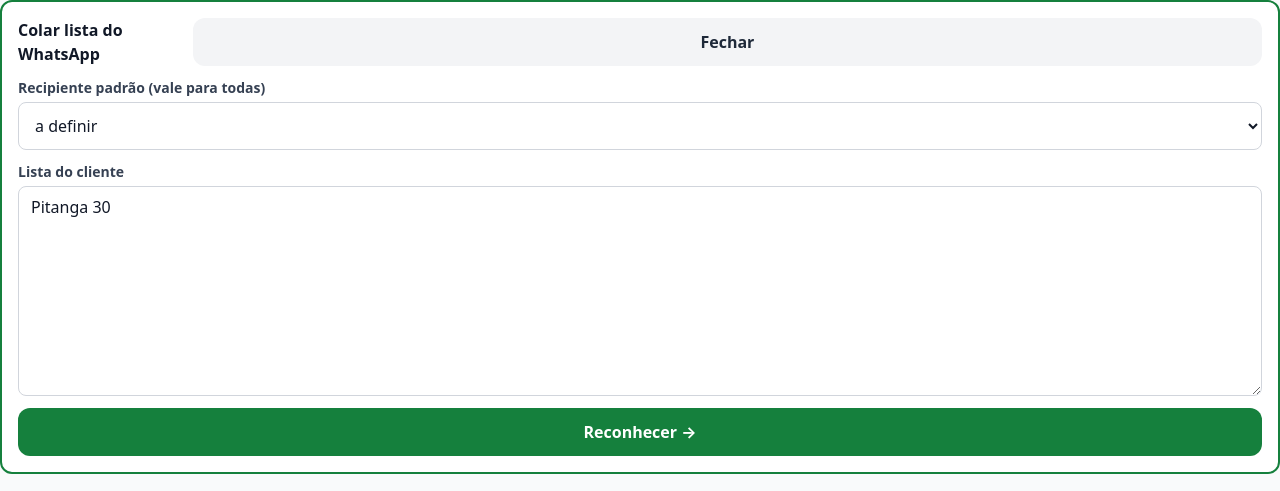
Test case: conferência da lista colada (T8.16) › quantidade que não é número continua segurando
This screenshot has width=1280, height=491.
Step 1. Select "Tubete" in the dropdown labelled "Recipiente padrão (vale para todas)" → [640, 126], box [18, 102, 1262, 150]
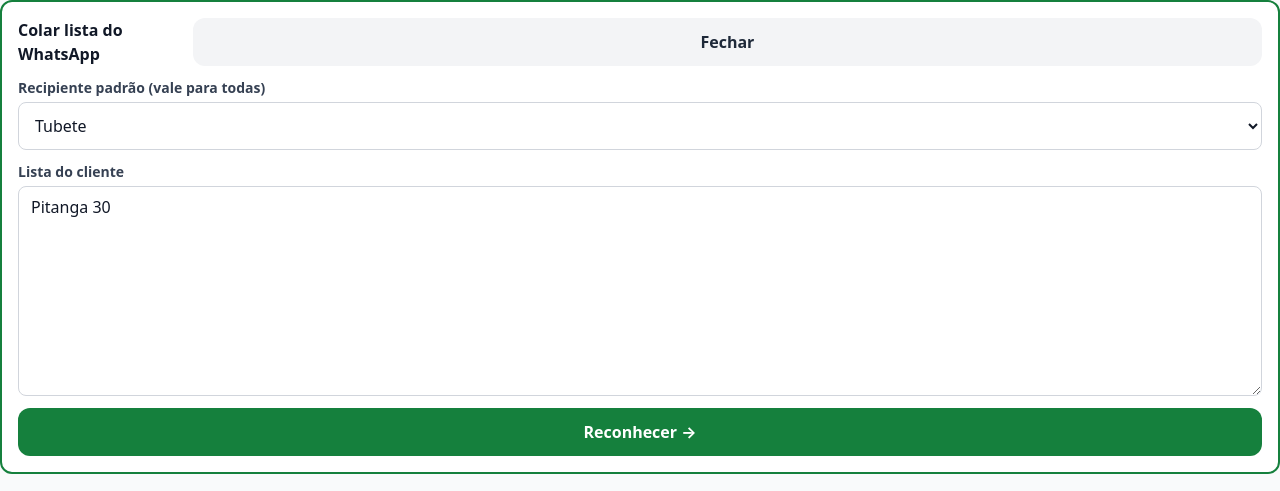
Step 2. Click the button "Reconhecer →" → [640, 432], box [18, 408, 1262, 456]
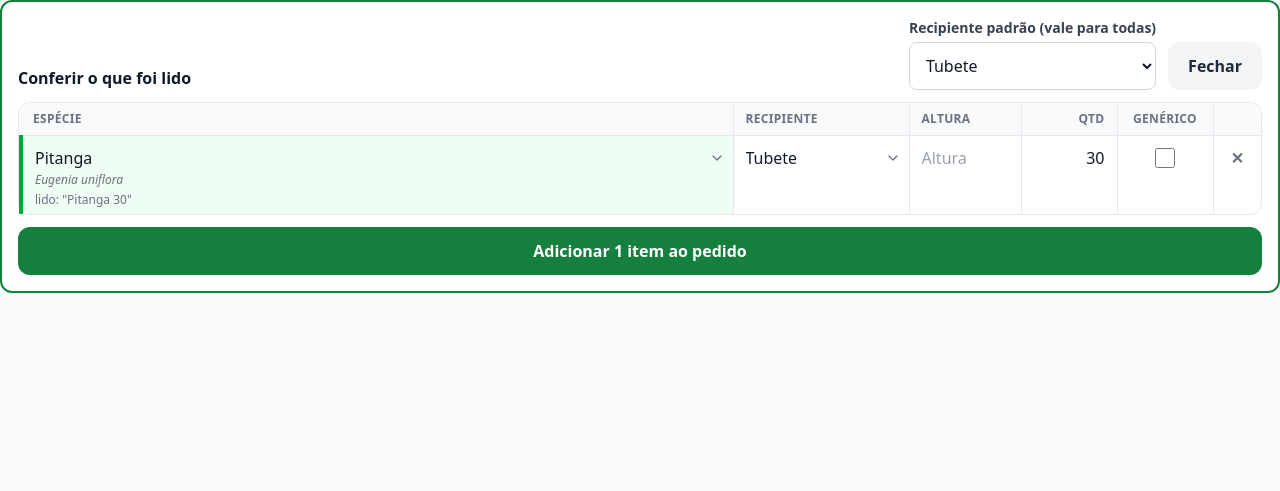
Step 3. Replace the text in the 3rd field named "Quantidade da linha 1" with "trinta" → [1069, 158], box [1022, 136, 1116, 180]
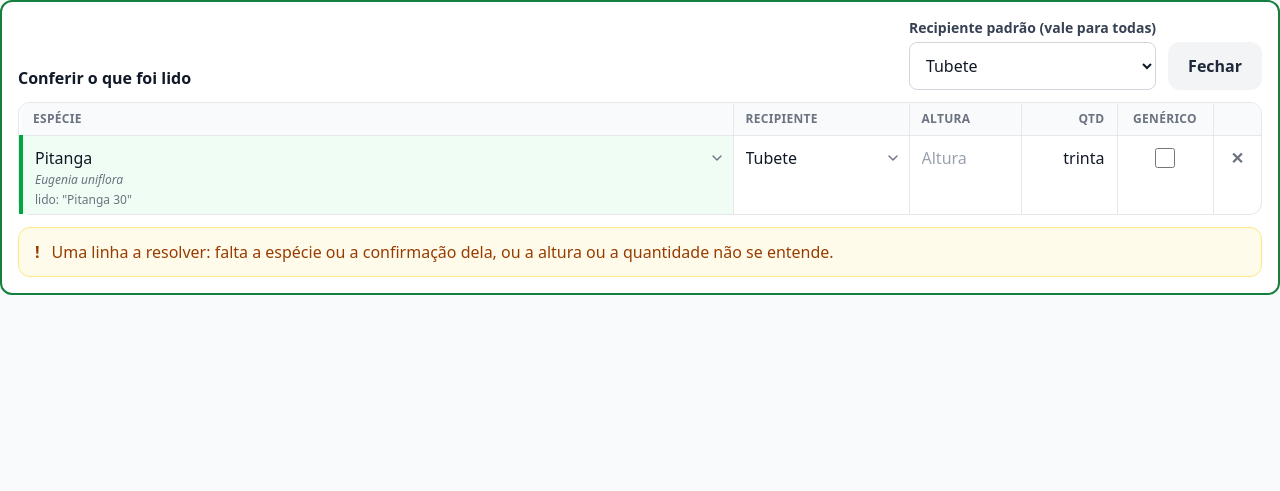
Check: the text "Uma linha a resolver" is shown, box [52, 241, 834, 263]
